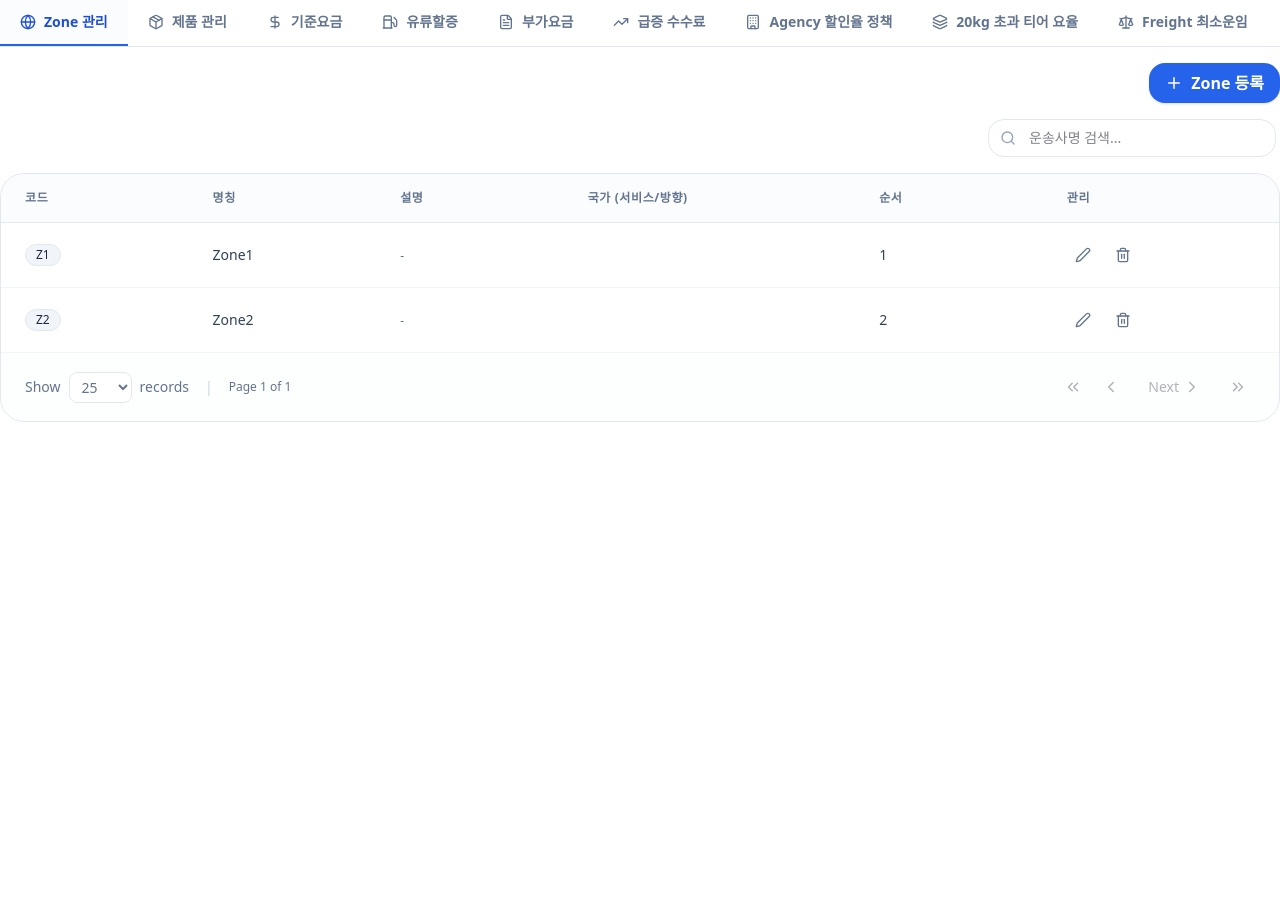
Test case: TC-UPS-RATES-PIVOT-03: 신규 등록 폼 — Zone 할인율 spinner step + Volumetric Divisor 기본값 › Zone 할인율 입력의 step이 0.1이라 화살표 클릭이 표시값에 반영된다 (0.01이면 반올림에 의해 무시됨)
Click the button "Agency 할인율 정책".
click(819, 23)  # box [726,0,912,46]
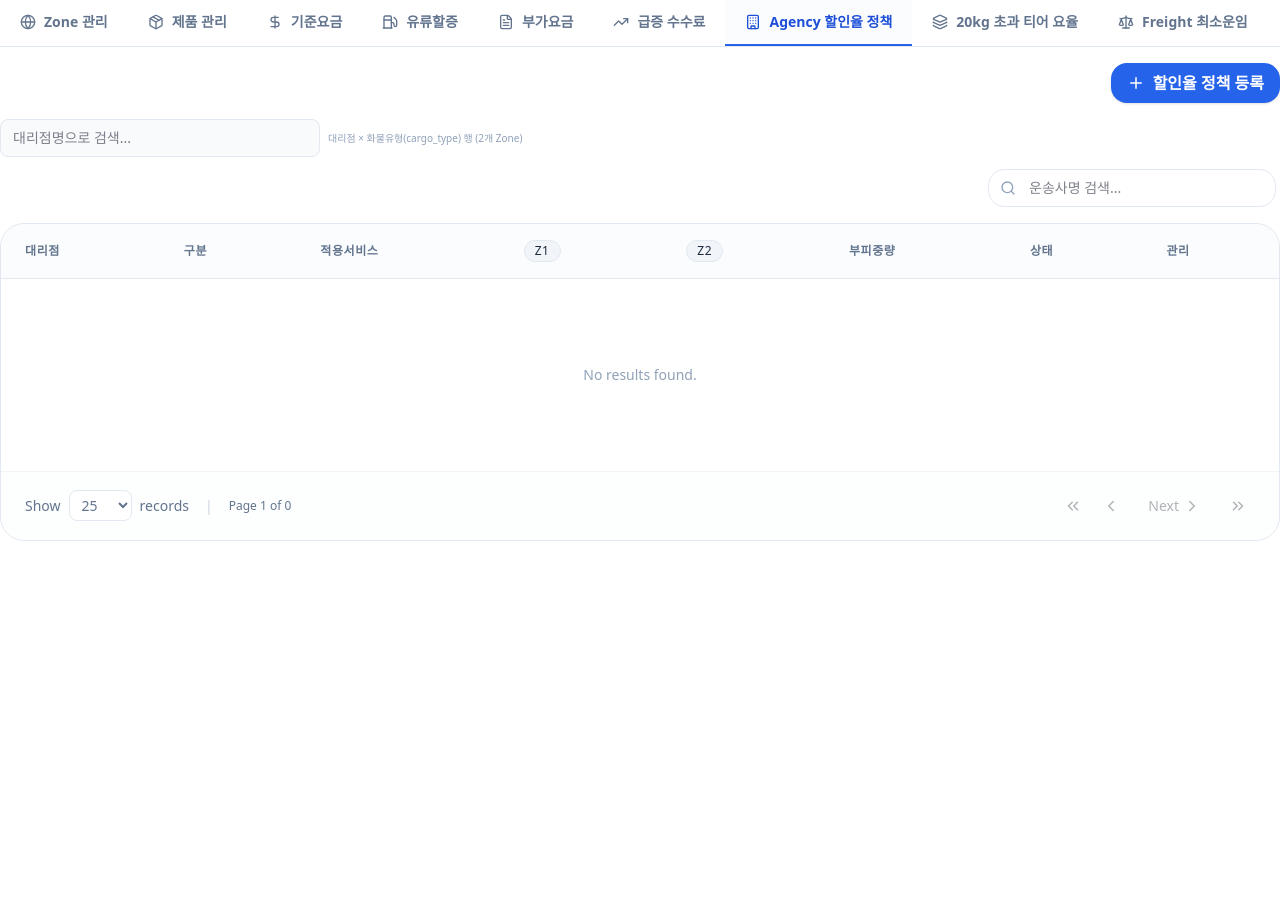
Click the button "할인율 정책 등록".
click(1195, 83)  # box [1111,63,1279,103]
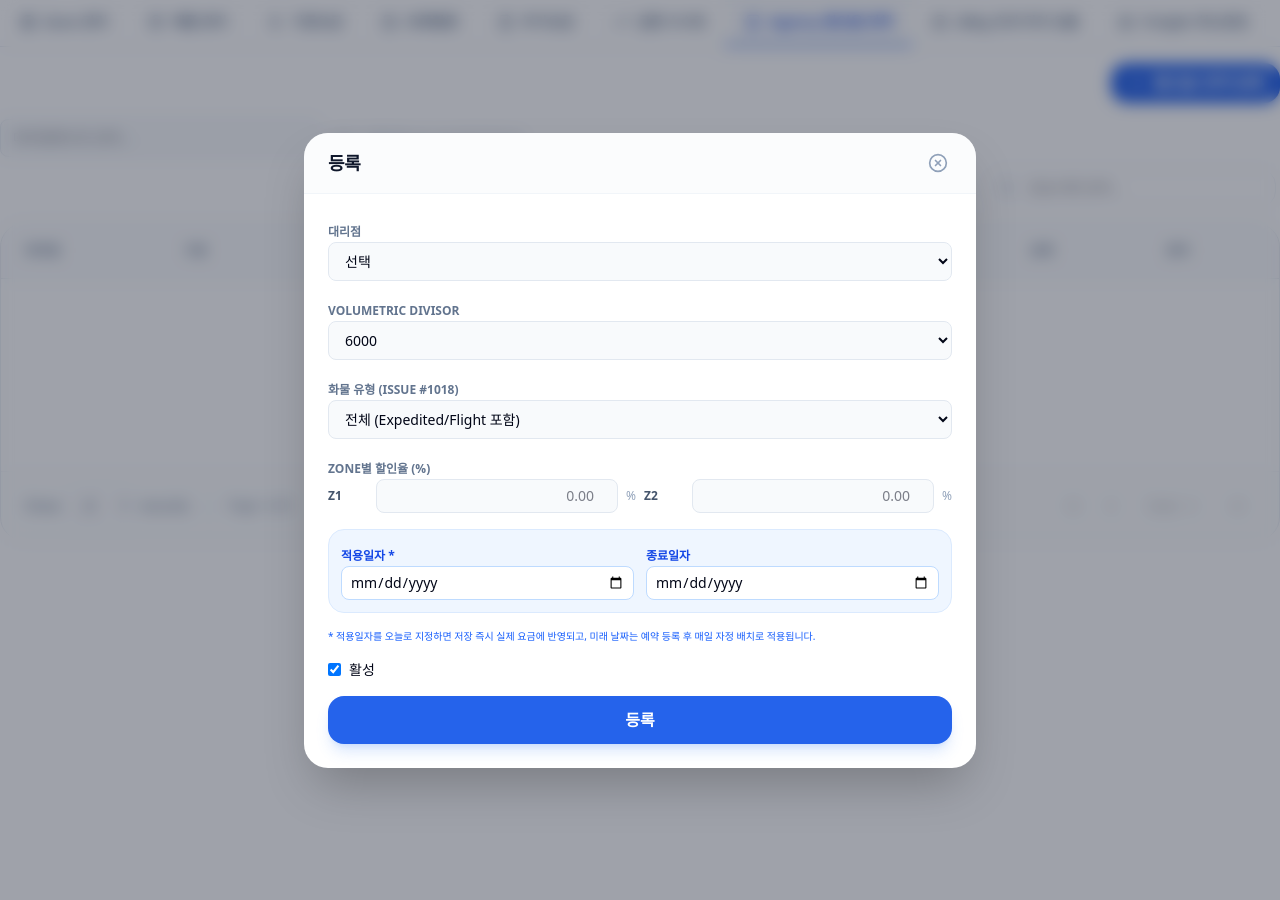
Check: the text "Volumetric Divisor" is shown, box [328,302,459,318]
